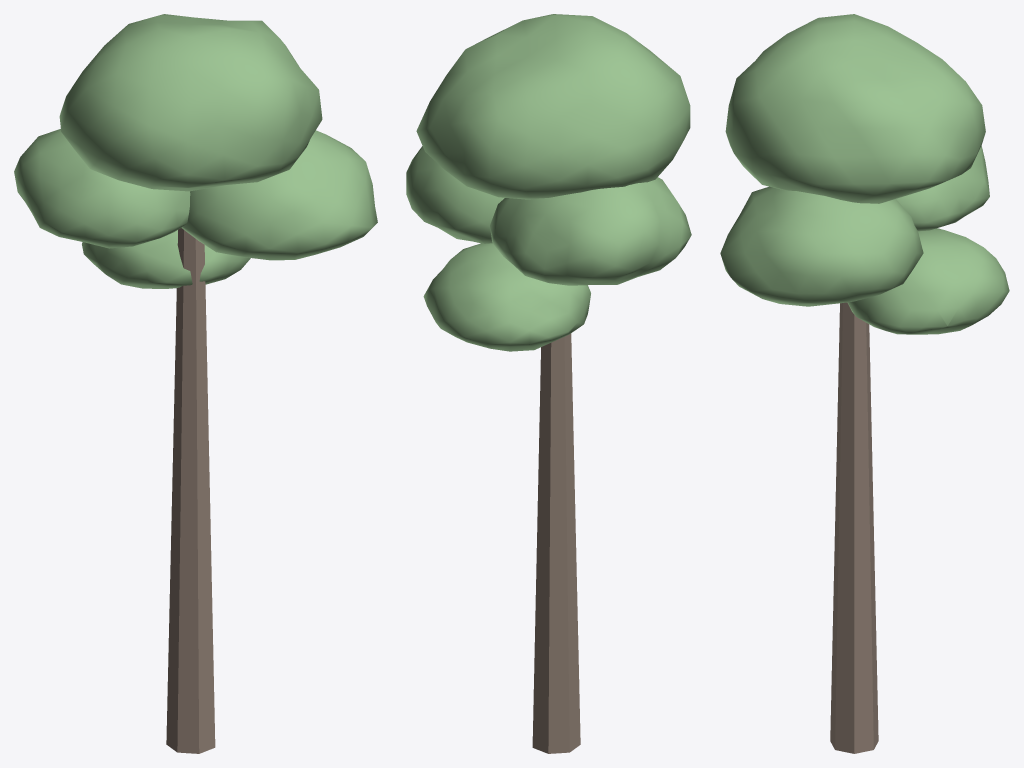
Rendered from tree-pine-a.glb.
3 renders of one model, left to right at view 1: azimuth 30°, elevation 25°; view 2: azimuth 150°, elevation 25°; view 3: azimuth 270°, elevation 25°, orthographic. The views are drawn at different scales.
Parts seen in each view (by area): view 1: tree-pine-a; view 2: tree-pine-a; view 3: tree-pine-a.
Part boxes in pixels (x1,y1,x2,y2): tree-pine-a: [14, 14, 377, 753]; tree-pine-a: [406, 14, 691, 753]; tree-pine-a: [720, 14, 1009, 753].
Bounding box in the file's own units: 0.4188 × 1 × 0.3701.
